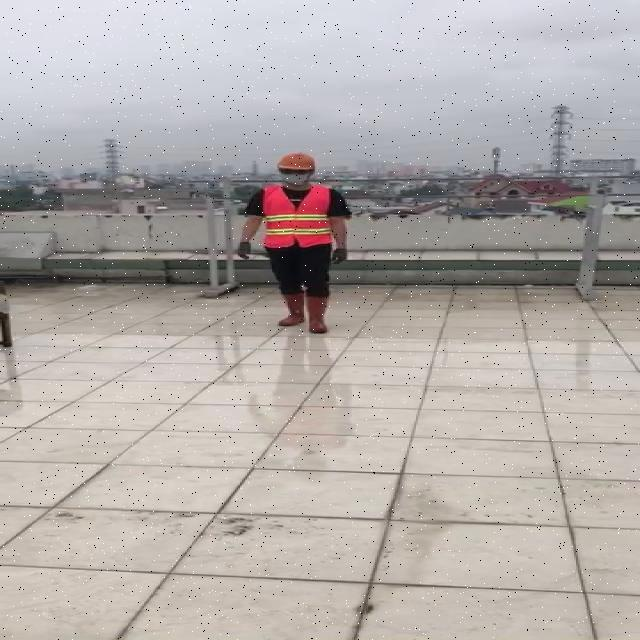Hard_hat: (273, 149, 321, 176)
Vest: (259, 183, 335, 250)
